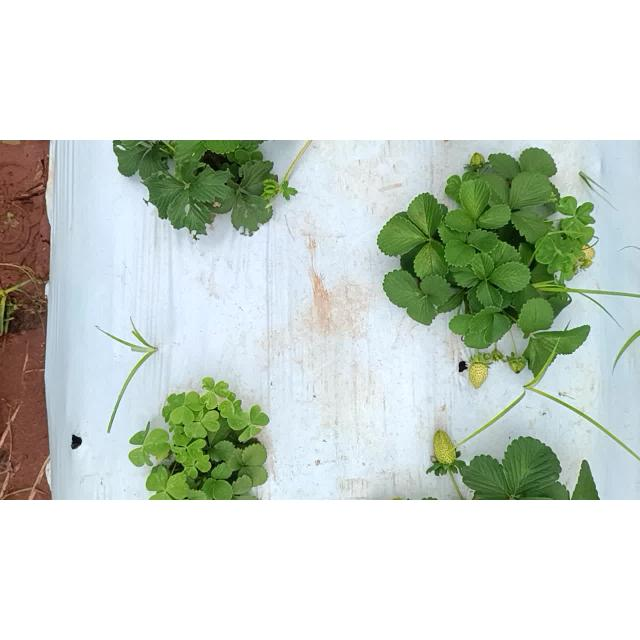no-maduro: (433, 430, 457, 466), (468, 361, 488, 389), (580, 244, 596, 262), (510, 358, 524, 374), (470, 152, 486, 166)
